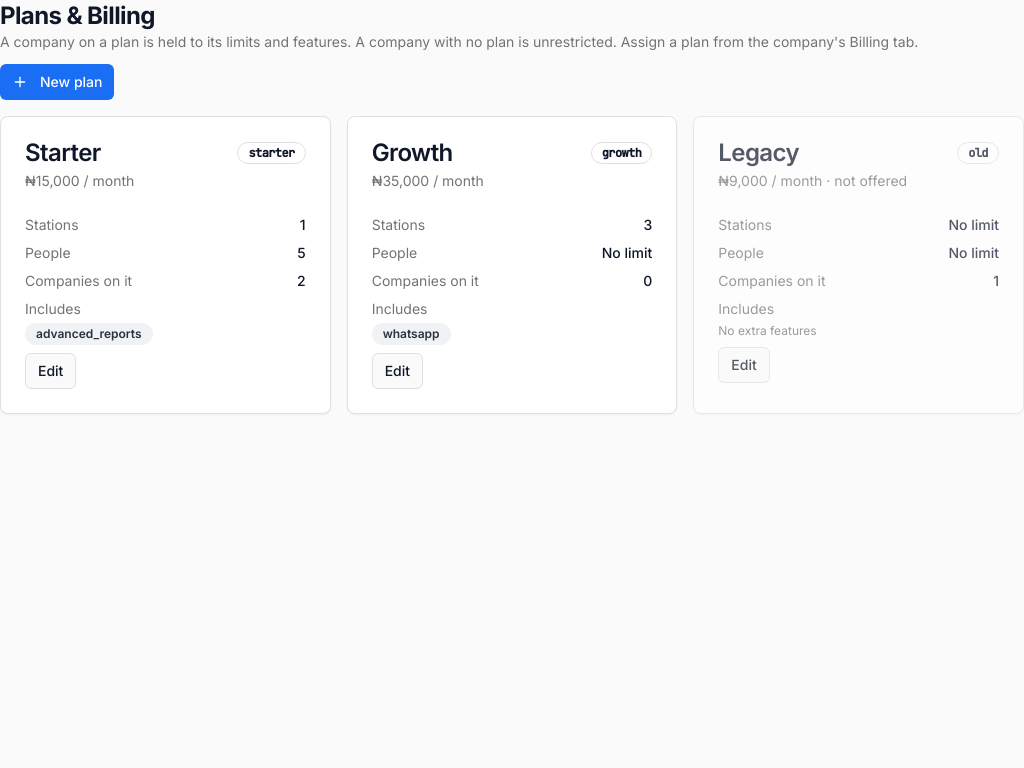
Test: plans › refuses a bad price or limit and a missing reason next to the field
Click the button with aria-label "Edit Starter" at (51, 371), box [25,353,76,389]
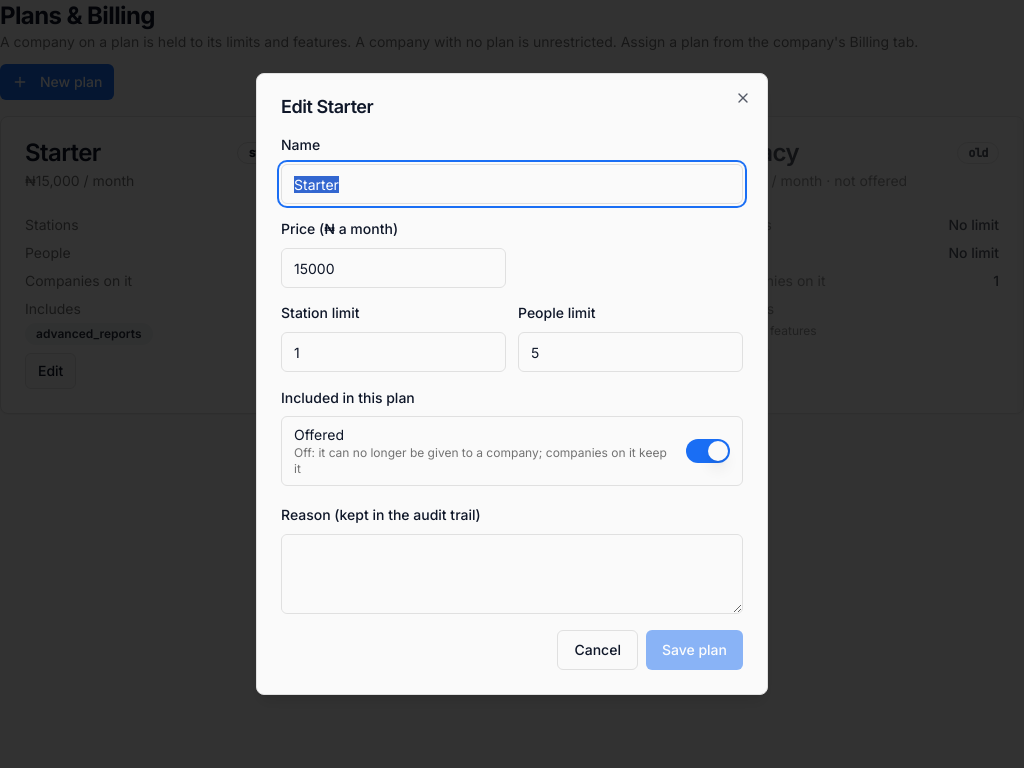
Replace the text in the field labelled "Price (₦ a month)" with "abc" at (394, 268), box [281,248,506,288]
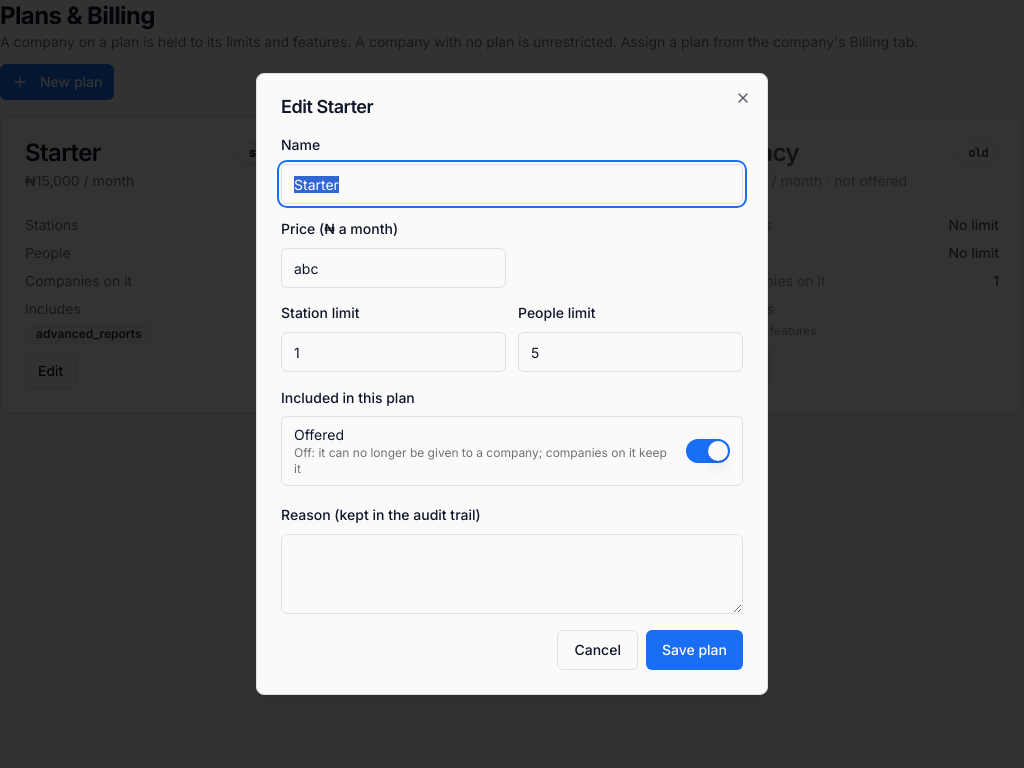
Replace the text in the field labelled "Station limit" with "0" at (394, 352), box [281,332,506,372]
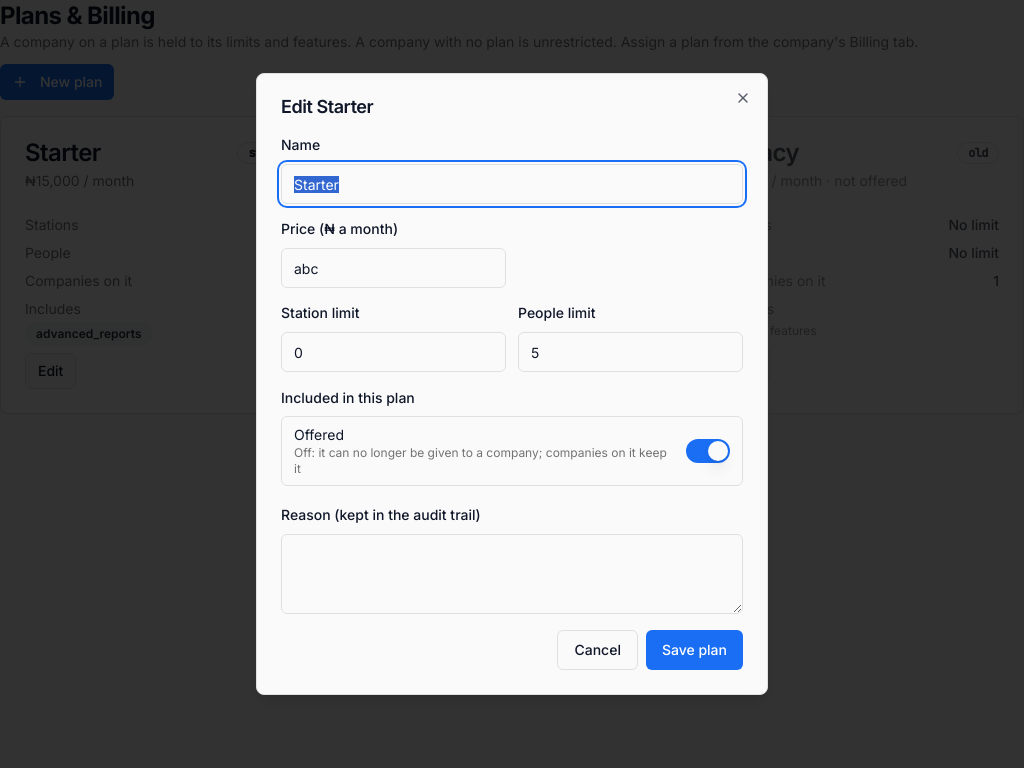
Click the button "Save plan" at (694, 650), box [646,630,743,670]
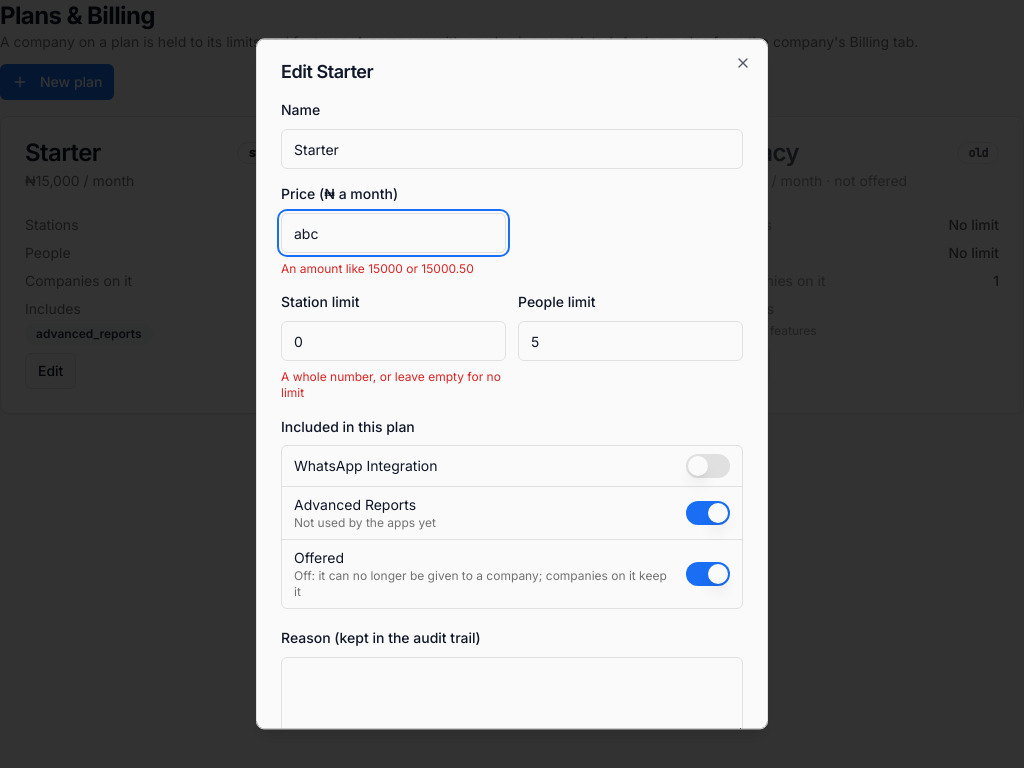
Result: the text "An amount like 15000 or 15000.50" is shown at [281,261,506,277]
Result: the text "A whole number, or leave empty for no limit" is shown at [281,369,506,401]
